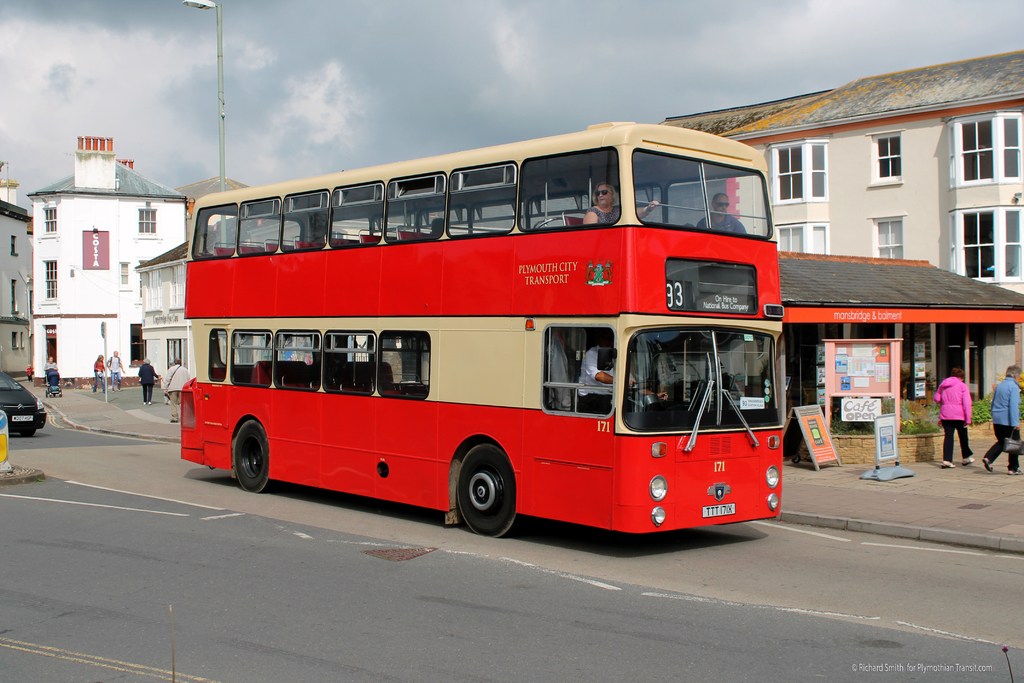Car: (0, 374, 46, 426)
